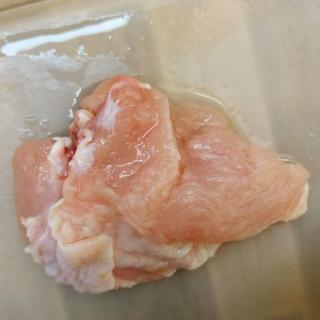Ayam: (12, 75, 310, 295)
